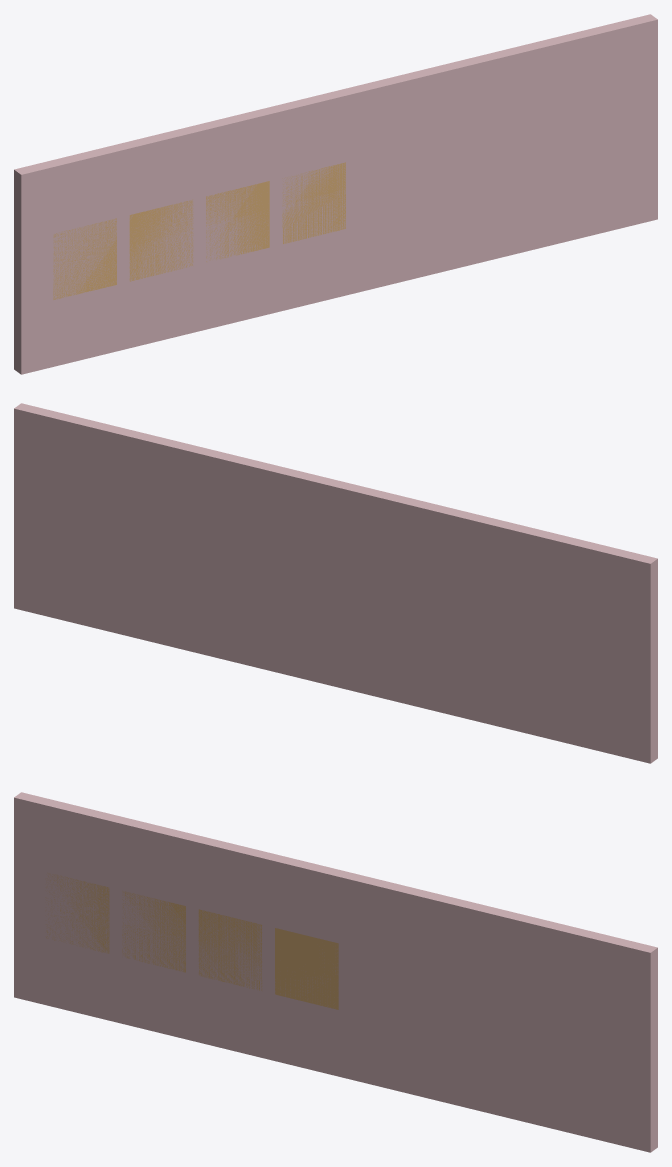
File: board.glb
3 views of the same model, one above another, from view 1: azimuth 30°, elevation 25°; view 2: azimuth 150°, elevation 25°; view 3: azimuth 330°, elevation 25° (orthographic).
Parts seen in each view (by area): view 1: Substrate_Layer_0, Substrate_Layer_2, Substrate_Layer_1, Substrate_Layer_4, Substrate_Layer_3; view 2: Substrate_Layer_0; view 3: Substrate_Layer_0, Substrate_Layer_4, Substrate_Layer_3, Substrate_Layer_2, Substrate_Layer_1.
Boxes of the visible parts, x1=… form: Substrate_Layer_0: x1=14, y1=14, x2=657, y2=374; Substrate_Layer_2: x1=129, y1=199, x2=193, y2=281; Substrate_Layer_1: x1=53, y1=218, x2=116, y2=299; Substrate_Layer_4: x1=282, y1=162, x2=345, y2=243; Substrate_Layer_3: x1=206, y1=181, x2=269, y2=261; Substrate_Layer_0: x1=14, y1=403, x2=657, y2=763; Substrate_Layer_0: x1=14, y1=792, x2=657, y2=1152; Substrate_Layer_4: x1=275, y1=928, x2=338, y2=1009; Substrate_Layer_3: x1=198, y1=909, x2=262, y2=990; Substrate_Layer_2: x1=122, y1=891, x2=185, y2=972; Substrate_Layer_1: x1=45, y1=873, x2=109, y2=953.
Size of the model in its own units: 0.1 by 0.03 by 0.002.
